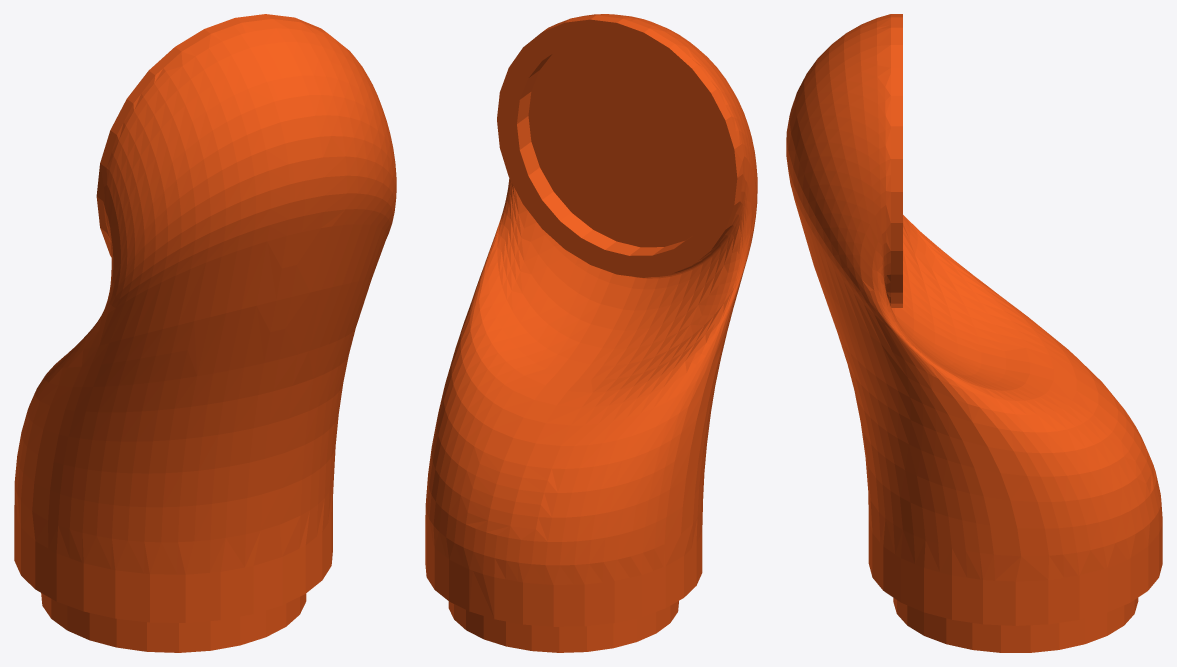
3 views of the same model, side by side, from view 1: azimuth 30°, elevation 25°; view 2: azimuth 150°, elevation 25°; view 3: azimuth 270°, elevation 25° (orthographic). The views are drawn at different scales.
Parts seen in each view (by area): view 1: link_5; view 2: link_5; view 3: link_5.
Boxes of the visible parts, x1,y1,x2,y2 form: link_5: (14,14,396,652); link_5: (425,14,757,652); link_5: (786,14,1162,652).
Size of the model in its own units: 0.12 by 0.1537 by 0.2585.
